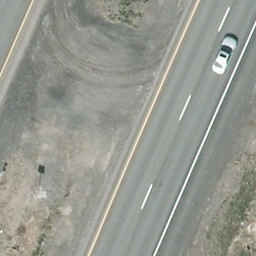car: (207, 34, 240, 77)
